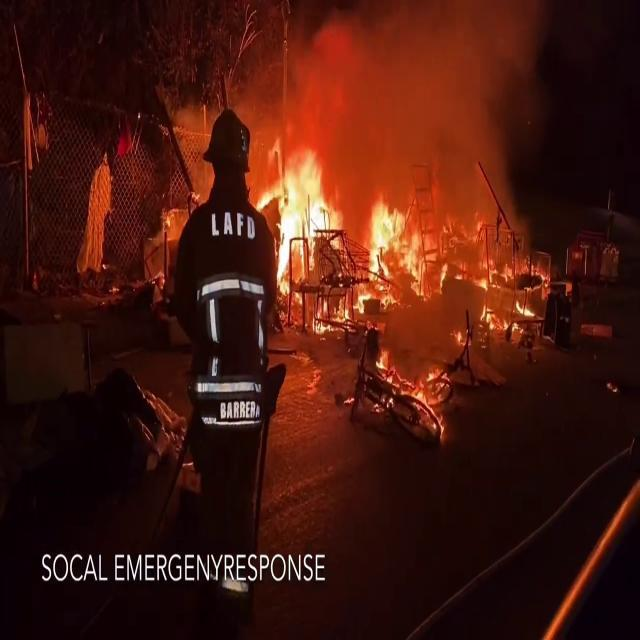Fire: (260, 146, 424, 316)
Smoke: (252, 0, 557, 165)
